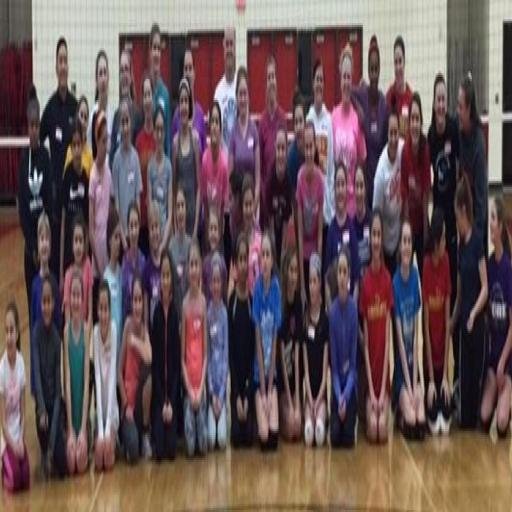person: (451, 176, 488, 429), (40, 39, 77, 275), (360, 208, 393, 442), (18, 87, 51, 319), (481, 197, 511, 436), (428, 74, 458, 309), (393, 220, 425, 438), (34, 276, 66, 477), (422, 208, 450, 435), (118, 276, 151, 463), (253, 231, 281, 450), (353, 35, 387, 207), (332, 47, 366, 217), (329, 249, 358, 448), (30, 212, 61, 396), (152, 251, 179, 461), (181, 239, 207, 456), (229, 235, 255, 448), (0, 303, 29, 492), (458, 76, 488, 257), (401, 93, 431, 273), (64, 270, 90, 475), (302, 253, 329, 446), (373, 108, 403, 275), (297, 122, 324, 304), (93, 282, 119, 471), (229, 68, 261, 219), (60, 118, 88, 290), (201, 103, 230, 265), (325, 164, 359, 302), (111, 101, 142, 252), (172, 79, 201, 238), (278, 249, 302, 440), (308, 60, 335, 225), (259, 56, 285, 227), (143, 106, 173, 252), (89, 112, 111, 304), (207, 253, 228, 450), (266, 128, 296, 265), (135, 76, 156, 255), (63, 216, 92, 325), (103, 208, 122, 358), (122, 203, 145, 323), (87, 51, 113, 157), (150, 24, 171, 155), (386, 35, 412, 138), (170, 187, 190, 319), (215, 27, 236, 152), (183, 49, 206, 159), (142, 203, 160, 332), (119, 49, 143, 144), (242, 176, 261, 294), (202, 208, 222, 306), (353, 166, 370, 281), (287, 91, 305, 192), (76, 95, 94, 180)
